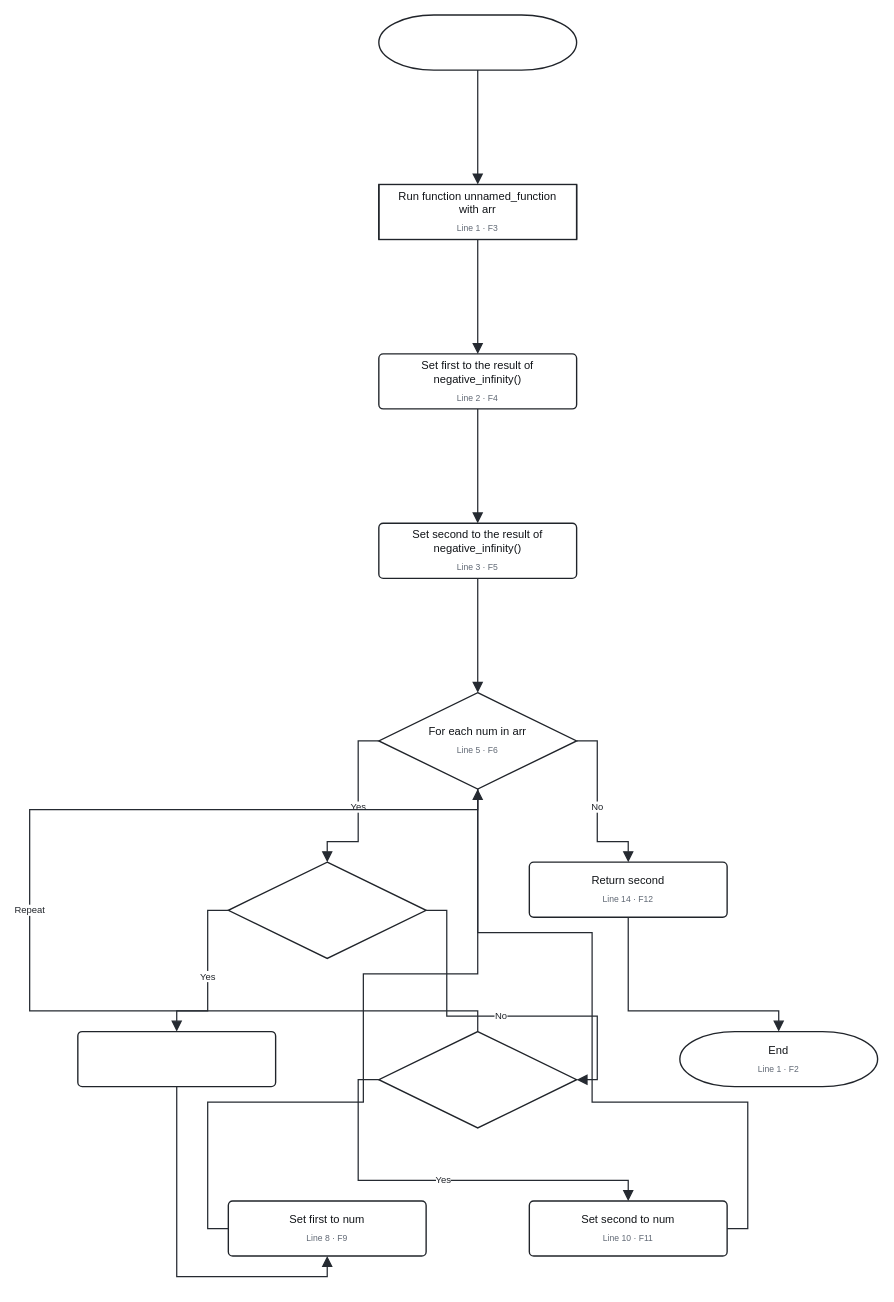
The diagram is 894 pixels wide and 1302 high, and some of its shapes have lost their labels. Here are the shapes that lost their labels. From the top down, the centre of each, then its label:
the point at 477,42: Start Line 1 · F1
the point at 326,910: Num is greater than first? Line 6 · F7
the point at 176,1058: Set second to first Line 7 · F8
the point at 477,1079: Is num is greater than second and num is not equal to first true? Line 9 · F10
